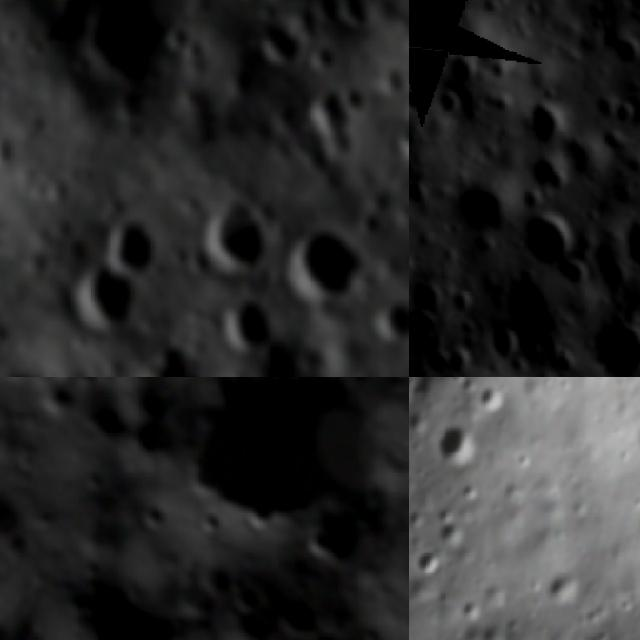crater: (149, 377, 409, 580), (58, 564, 207, 640), (79, 0, 178, 92), (59, 256, 154, 338), (195, 194, 278, 287), (286, 221, 366, 317), (99, 207, 174, 285), (524, 212, 596, 289), (302, 80, 356, 172), (77, 389, 140, 456), (220, 294, 280, 361), (191, 552, 247, 608), (588, 317, 640, 377), (126, 346, 217, 377), (439, 417, 488, 474), (513, 98, 576, 140), (216, 600, 280, 640), (280, 615, 382, 640), (257, 24, 305, 74), (370, 294, 409, 354), (31, 377, 77, 418), (301, 526, 344, 568), (307, 40, 348, 80), (409, 541, 450, 581), (110, 377, 187, 398), (164, 15, 198, 57), (138, 498, 174, 536), (195, 507, 231, 544), (494, 328, 524, 368), (44, 171, 74, 210), (340, 86, 376, 118), (186, 38, 218, 72), (473, 385, 510, 412), (379, 66, 408, 100), (0, 136, 17, 175), (41, 377, 83, 388)
